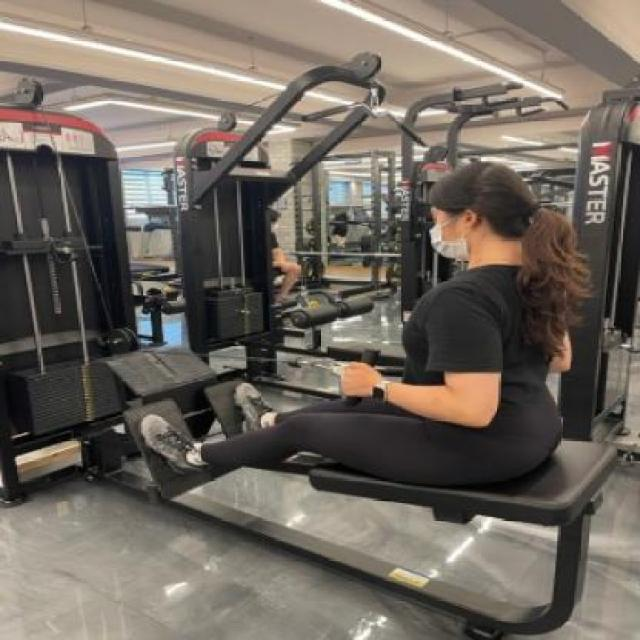Seated Cable Rows: (0, 81, 617, 638)
